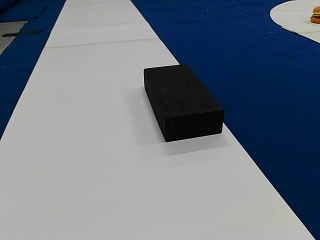block: (144, 65, 223, 141)
